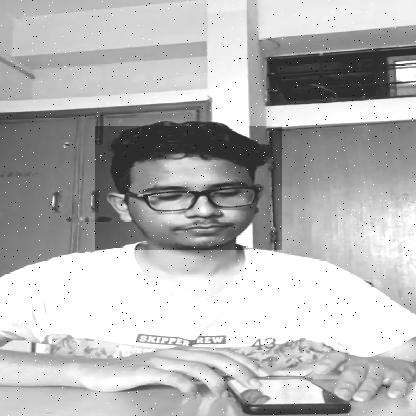Normal: (95, 126, 282, 250)
